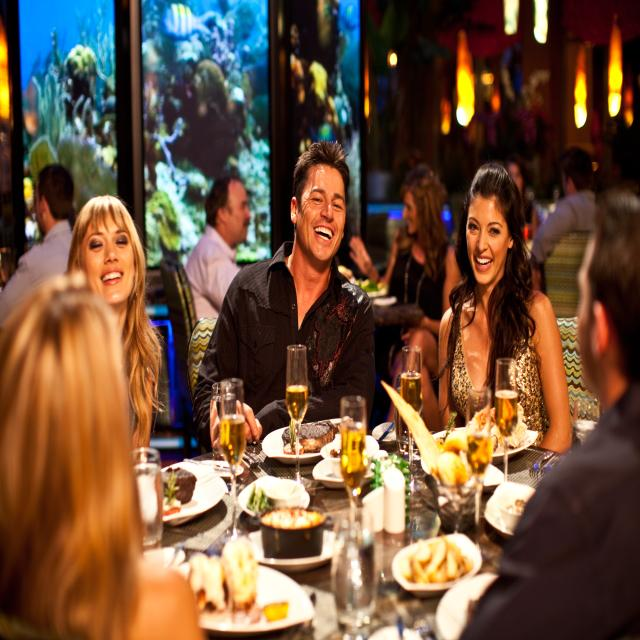person: (236, 153, 398, 445), (442, 164, 586, 456), (551, 187, 640, 640), (48, 197, 169, 455), (389, 154, 466, 317), (3, 157, 87, 297), (177, 176, 255, 322), (542, 137, 608, 286)
